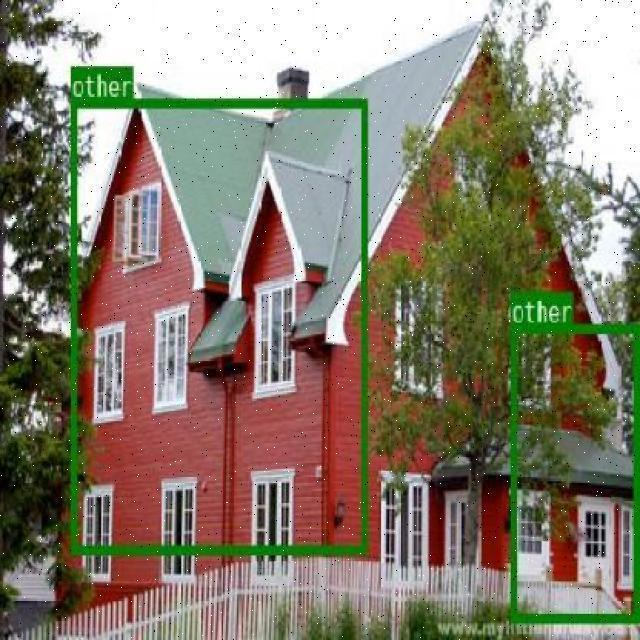Smoke: (70, 98, 366, 552), (510, 323, 638, 620)
